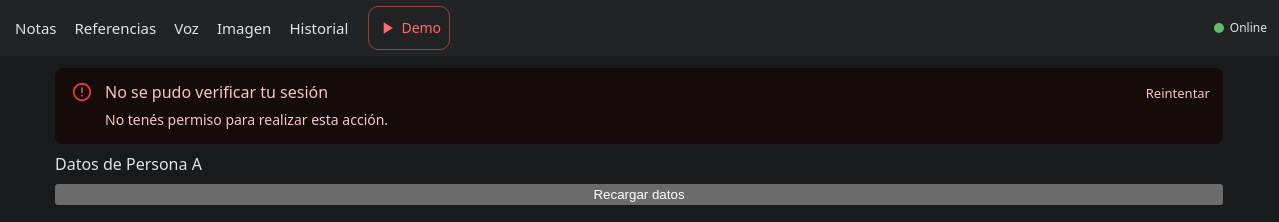
Scenario: Sesión en el shell › un 403 de me se explica con reintento y no se toma como visitante
Expected: the text "No se pudo verificar tu sesión" is shown, [105, 81, 328, 103]
Expected: the message that starts with "No se pudo verificar tu sesión" shows "No tenés permiso", [105, 110, 388, 129]
Step 1. Click the button "Reintentar" → (1178, 93), box [1141, 78, 1215, 109]
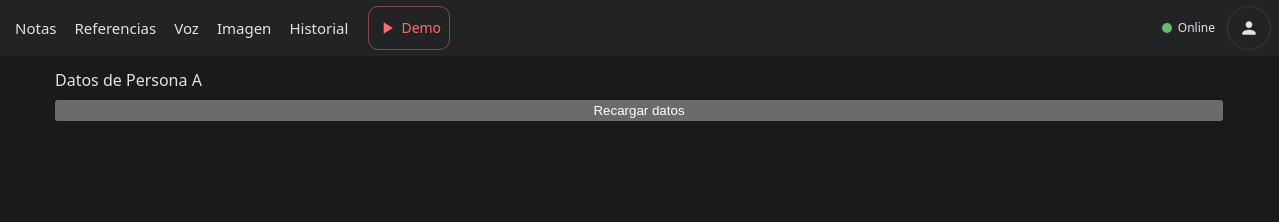
Now the button named "Cuenta de Persona A" is shown, box [1227, 6, 1271, 50]
